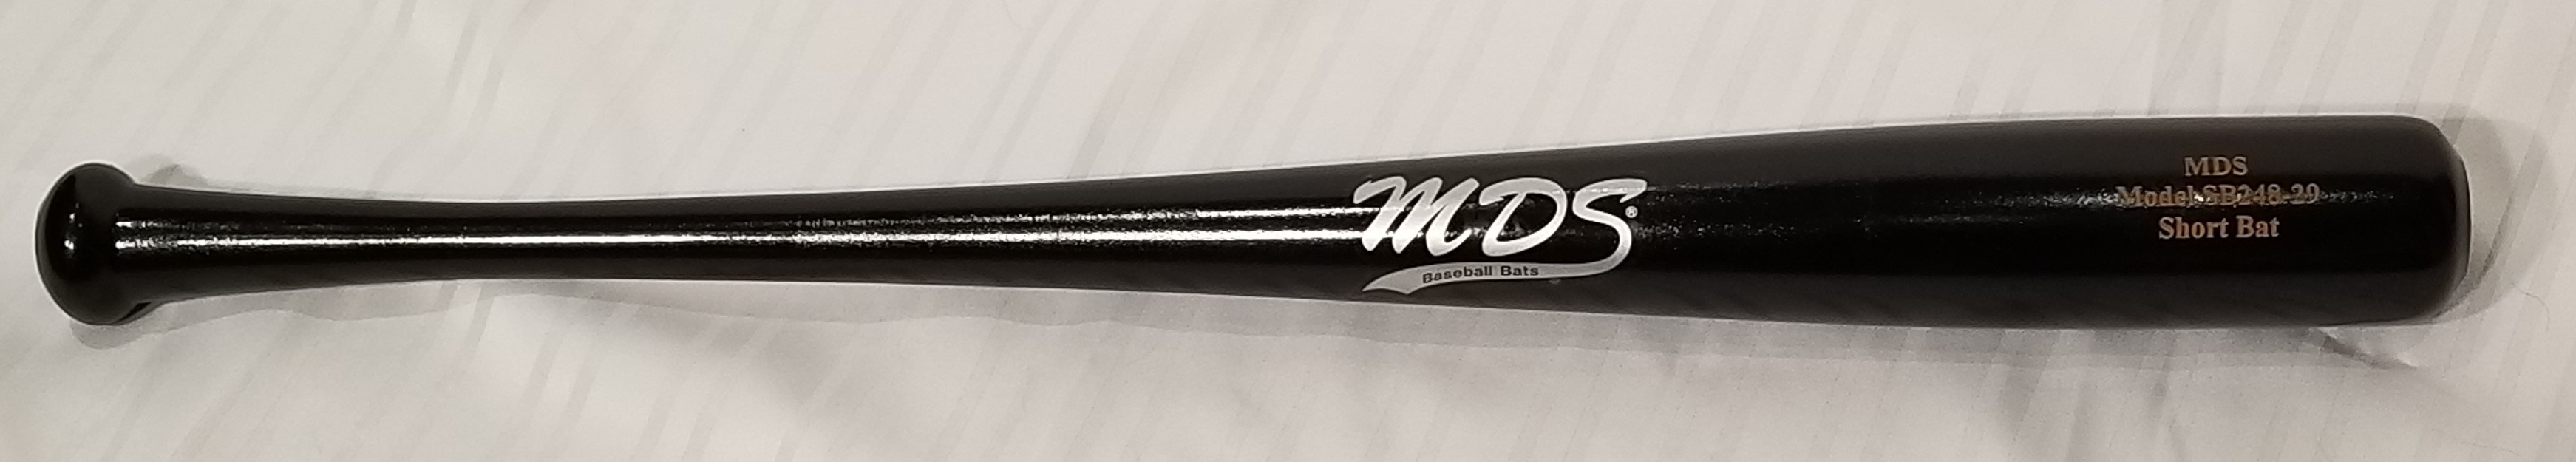bita: (30, 105, 2451, 337)
